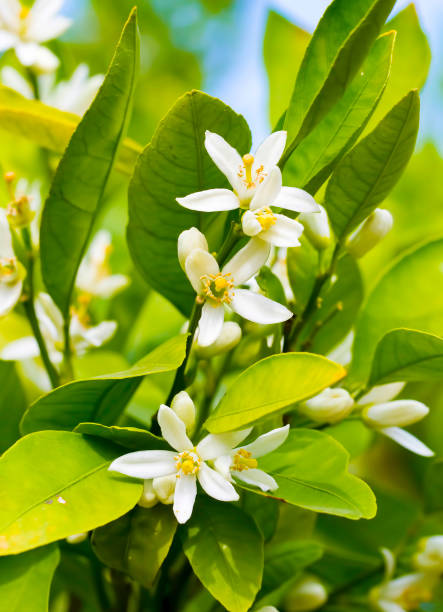flower: (118, 391, 248, 520), (188, 121, 327, 229), (179, 235, 296, 340), (200, 417, 296, 506)
